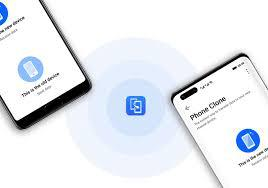Smartphone: (177, 55, 268, 188), (0, 0, 86, 109)
